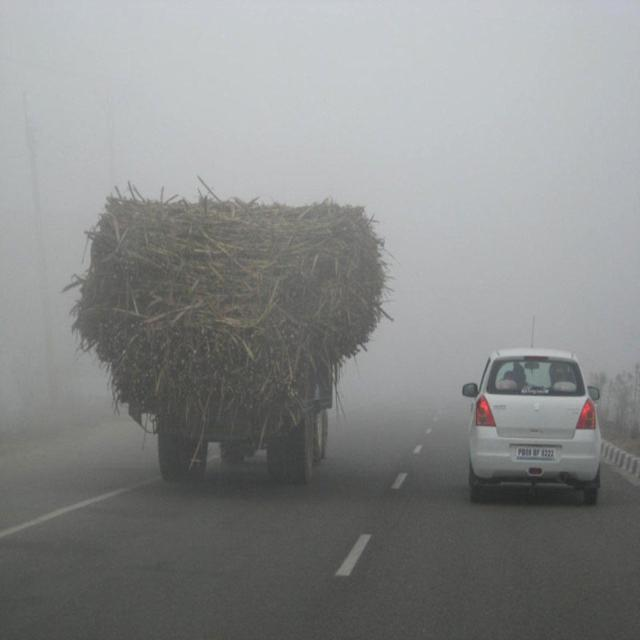Car: (459, 343, 610, 502)
Truck: (56, 176, 400, 489)
